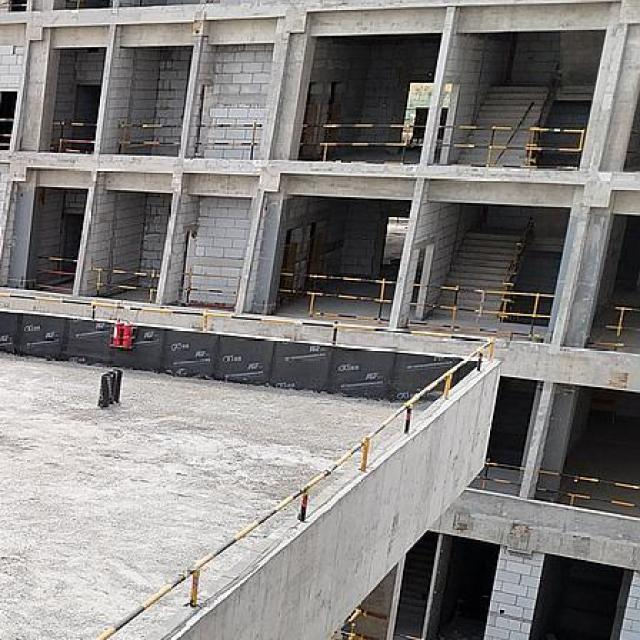edge_guardrail: (0, 291, 496, 640), (407, 282, 554, 342), (277, 269, 396, 325), (437, 124, 584, 166), (299, 124, 426, 165), (535, 468, 640, 508), (195, 123, 262, 160), (91, 266, 159, 301), (178, 268, 242, 305), (117, 123, 182, 154), (35, 254, 78, 292), (476, 461, 526, 492), (52, 120, 97, 153), (604, 304, 640, 339), (0, 117, 14, 147), (338, 623, 358, 640), (395, 631, 421, 640), (10, 3, 27, 7)
